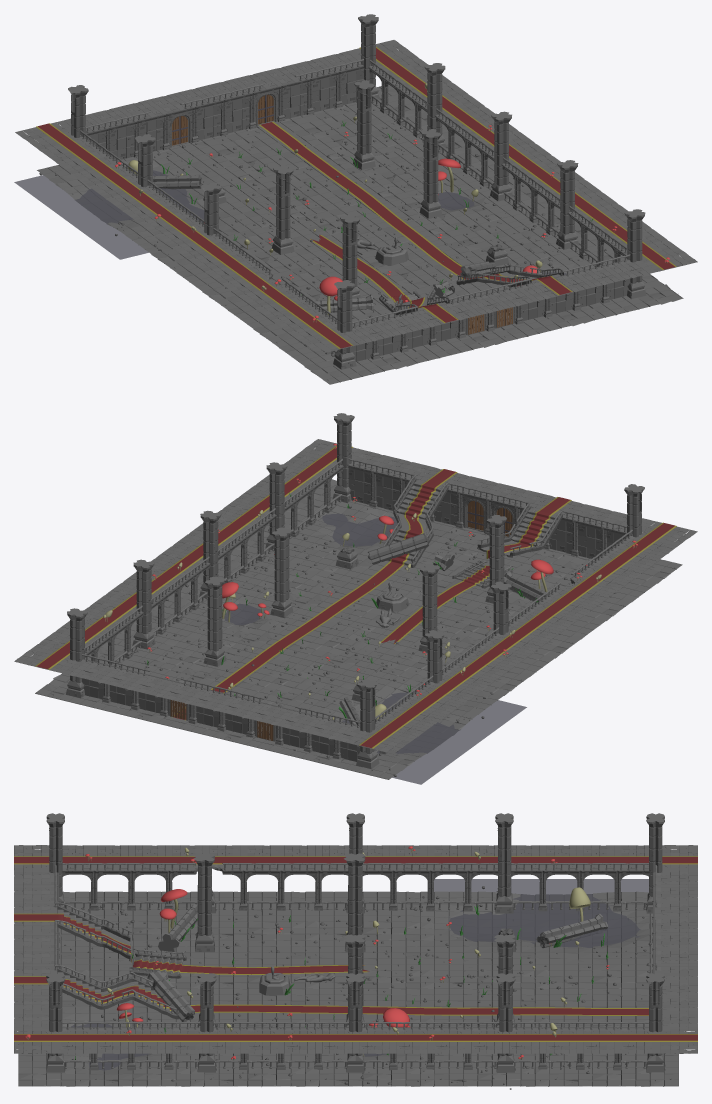
File: Environment (2).fbx
3 renders of one model, top to bottom at view 1: azimuth 30°, elevation 25°; view 2: azimuth 150°, elevation 25°; view 3: azimuth 270°, elevation 25°, orthographic. The views are drawn at different scales.
Visible parts, largest first — view 1: Balcony, Pillars, Walls, Stairs, Water, Doors, Foliage, Statue; view 2: Balcony, Pillars, Stairs, Walls, Water, Foliage, Doors, Statue; view 3: Balcony, Pillars, Stairs, Water, Foliage, Statue.
Part boxes in pixels (x1=…): Balcony: x1=15, y1=40, x2=697, y2=384; Pillars: x1=68, y1=14, x2=646, y2=369; Walls: x1=87, y1=70, x2=630, y2=361; Stairs: x1=259, y1=121, x2=572, y2=323; Water: x1=14, y1=170, x2=566, y2=274; Doors: x1=168, y1=92, x2=516, y2=335; Foliage: x1=115, y1=83, x2=617, y2=322; Statue: x1=357, y1=237, x2=408, y2=265; Balcony: x1=14, y1=439, x2=697, y2=779; Pillars: x1=66, y1=413, x2=644, y2=769; Stairs: x1=172, y1=469, x2=571, y2=720; Walls: x1=82, y1=470, x2=624, y2=761; Water: x1=224, y1=513, x2=526, y2=784; Foliage: x1=103, y1=478, x2=637, y2=719; Doors: x1=167, y1=498, x2=515, y2=741; Statue: x1=376, y1=582, x2=409, y2=627; Balcony: x1=14, y1=845, x2=697, y2=1086; Pillars: x1=46, y1=813, x2=665, y2=1072; Stairs: x1=14, y1=902, x2=648, y2=1019; Water: x1=71, y1=879, x2=648, y2=1071; Foliage: x1=75, y1=846, x2=609, y2=1059; Statue: x1=259, y1=966, x2=335, y2=996.
Size of the model in its own units: 7514 by 1673 by 10046.
